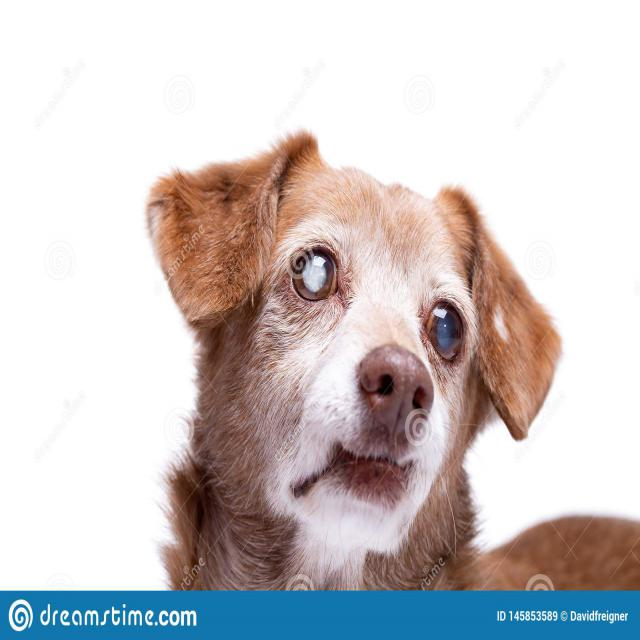eye: (290, 241, 344, 307), (424, 295, 467, 368)
